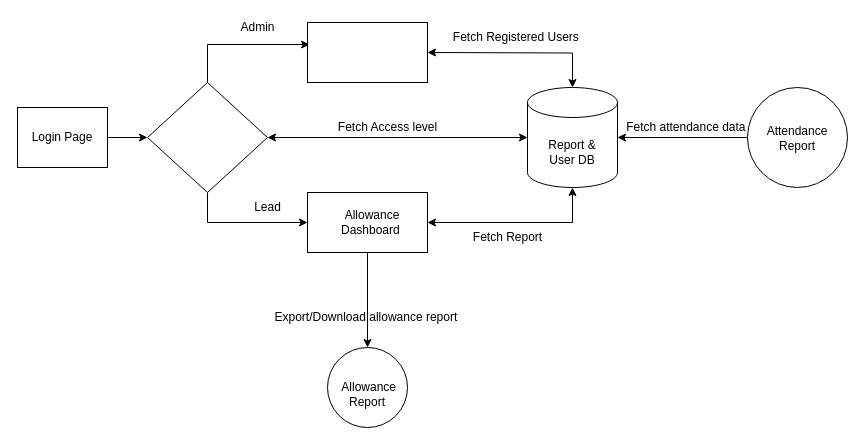
Some shapes in this 865 by 445 pixel diagram are drawn without their labels. Here are the shapes that lost their labels. From the top down, the centre of each, then its label:
the point at 367,52: User Management
the point at 207,137: Role based Authentication
